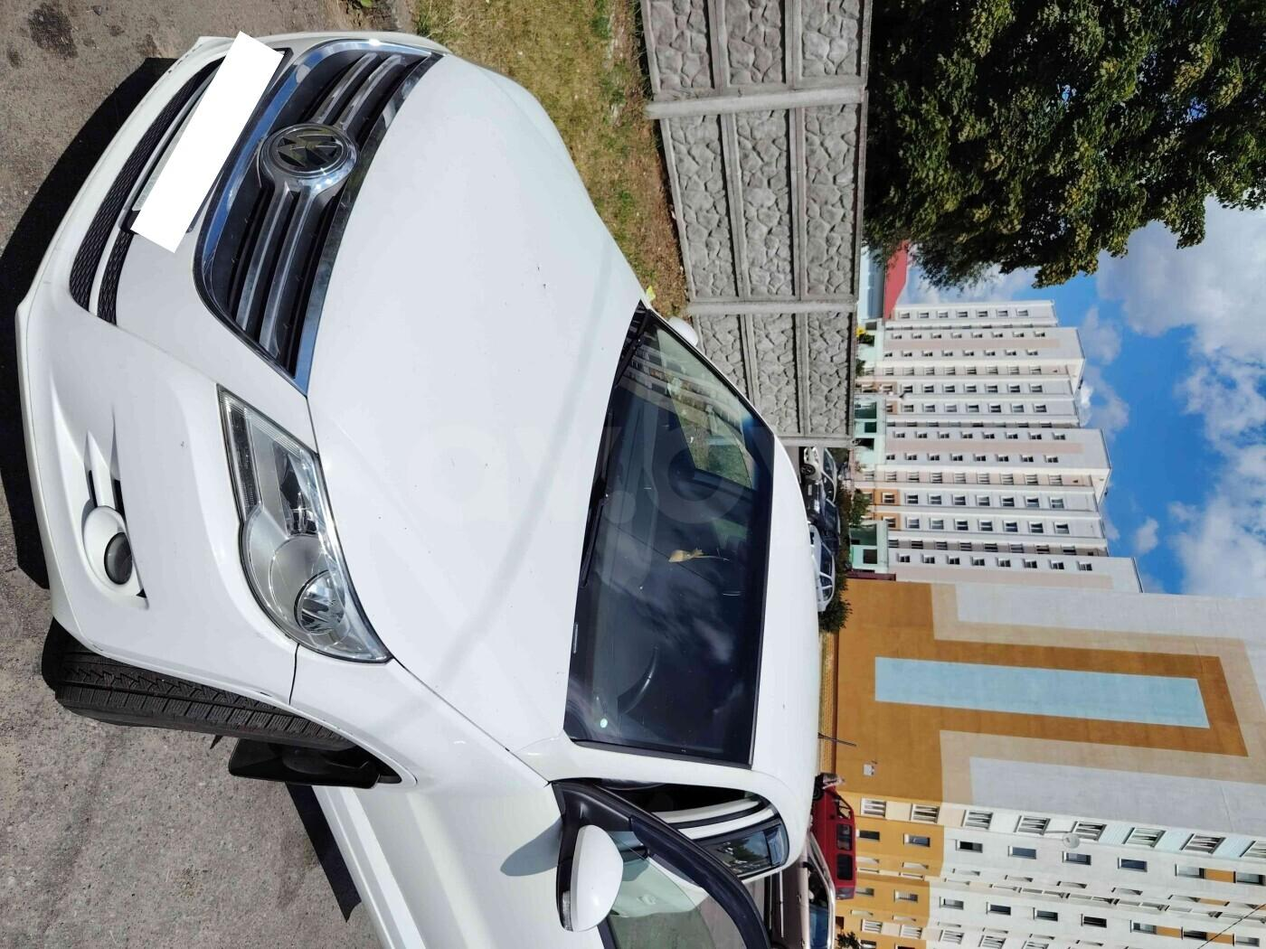Tiguan_2007-2011: (12, 9, 820, 949)
